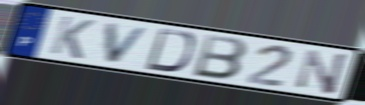2: (245, 43, 296, 90)
B: (190, 32, 249, 82)
D: (142, 27, 198, 74)
K: (47, 14, 97, 61)
N: (294, 48, 350, 97)
V: (104, 22, 153, 66)
